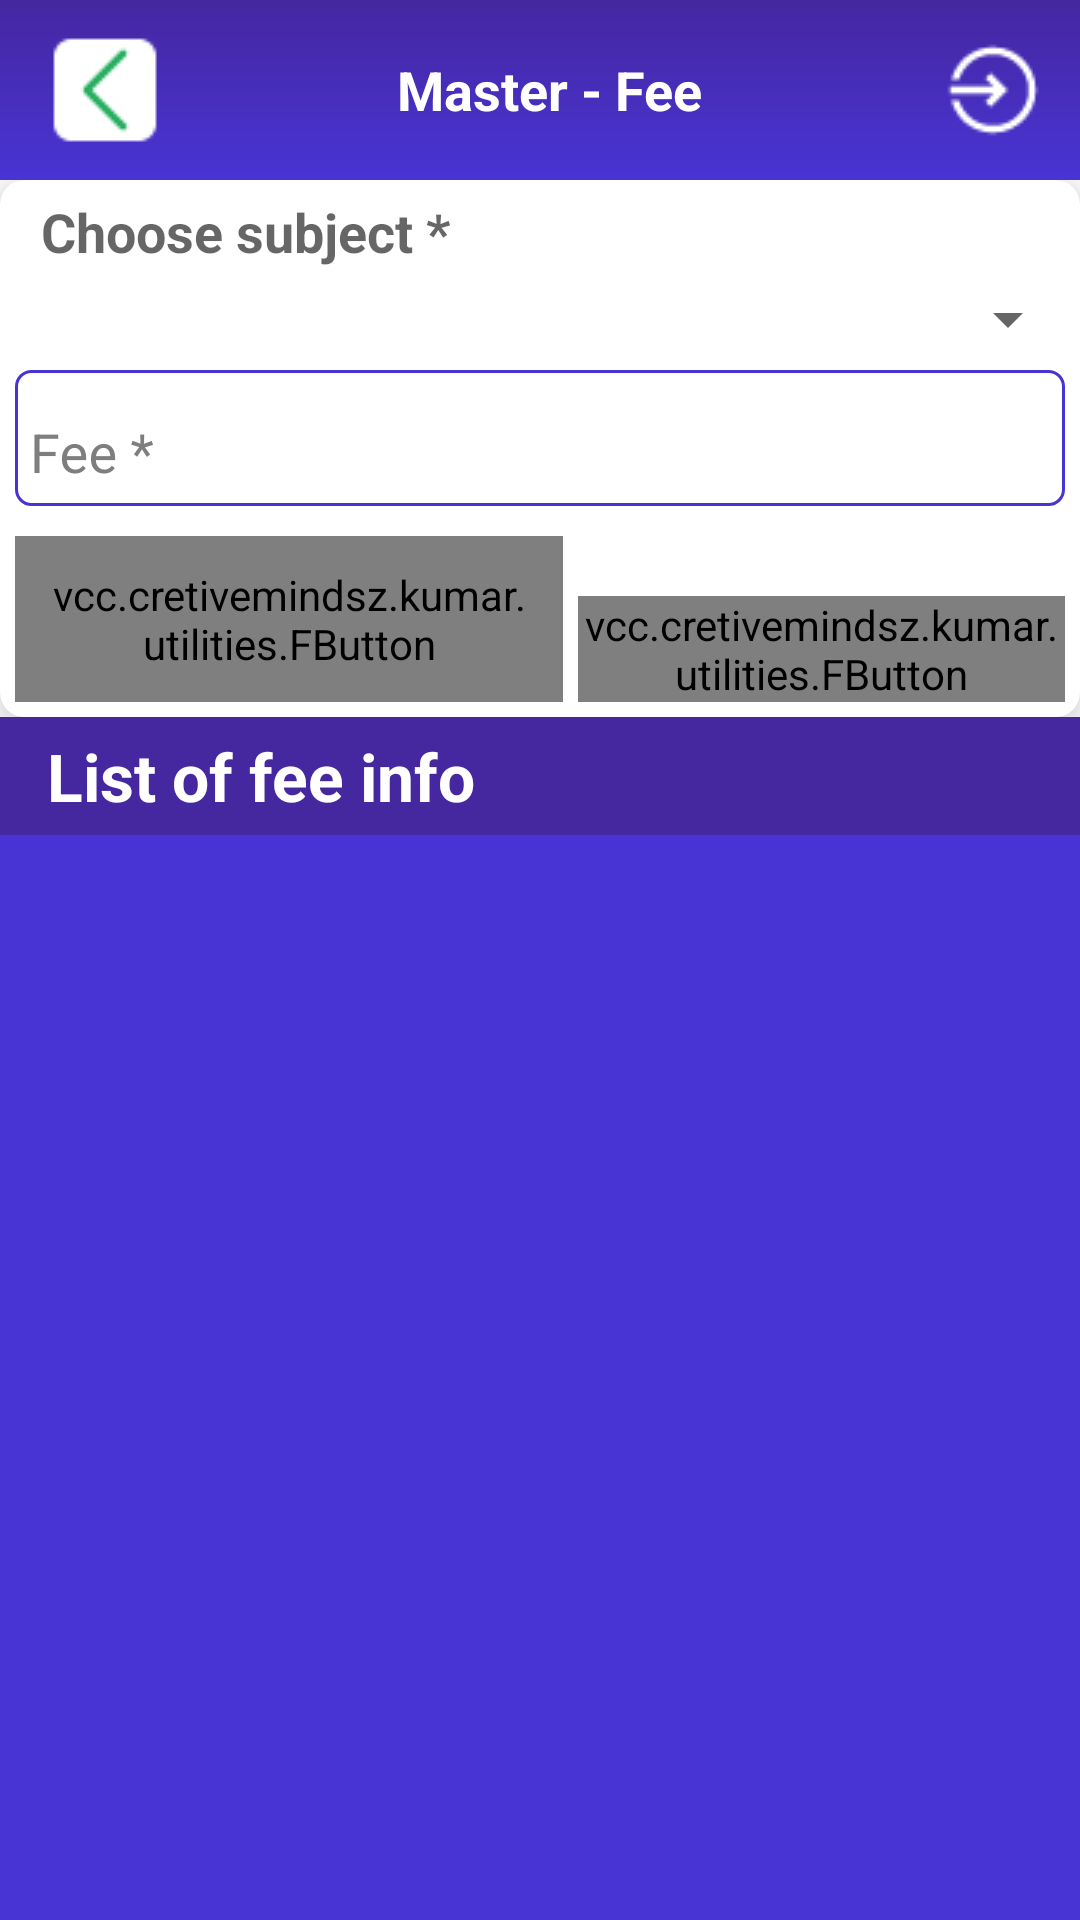

Icon click points for this 1080w x 1920h phone screenshot, format [x,y]:
back: [105,92]
exit: [993,96]
